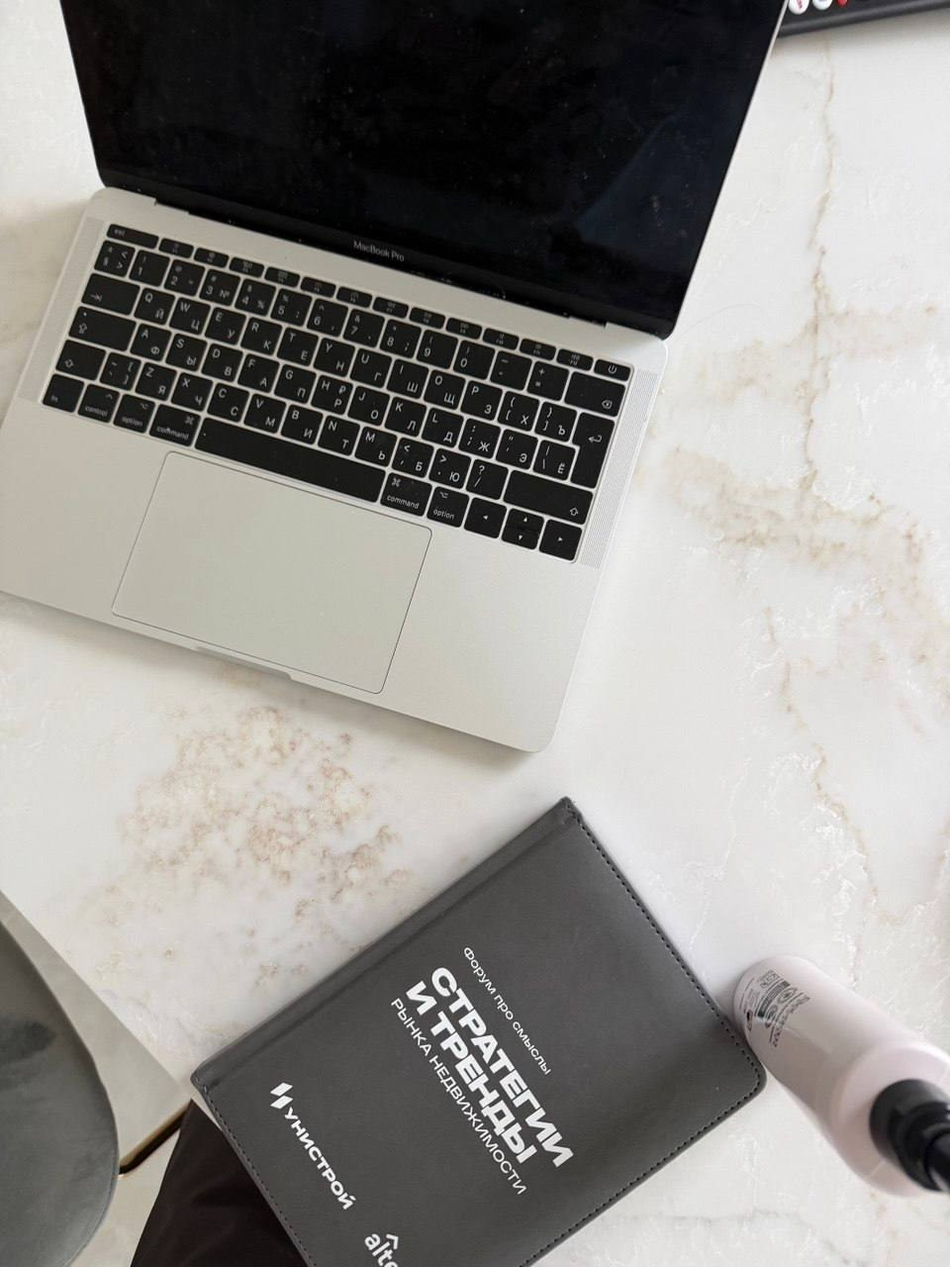laptop: (1, 1, 790, 754)
